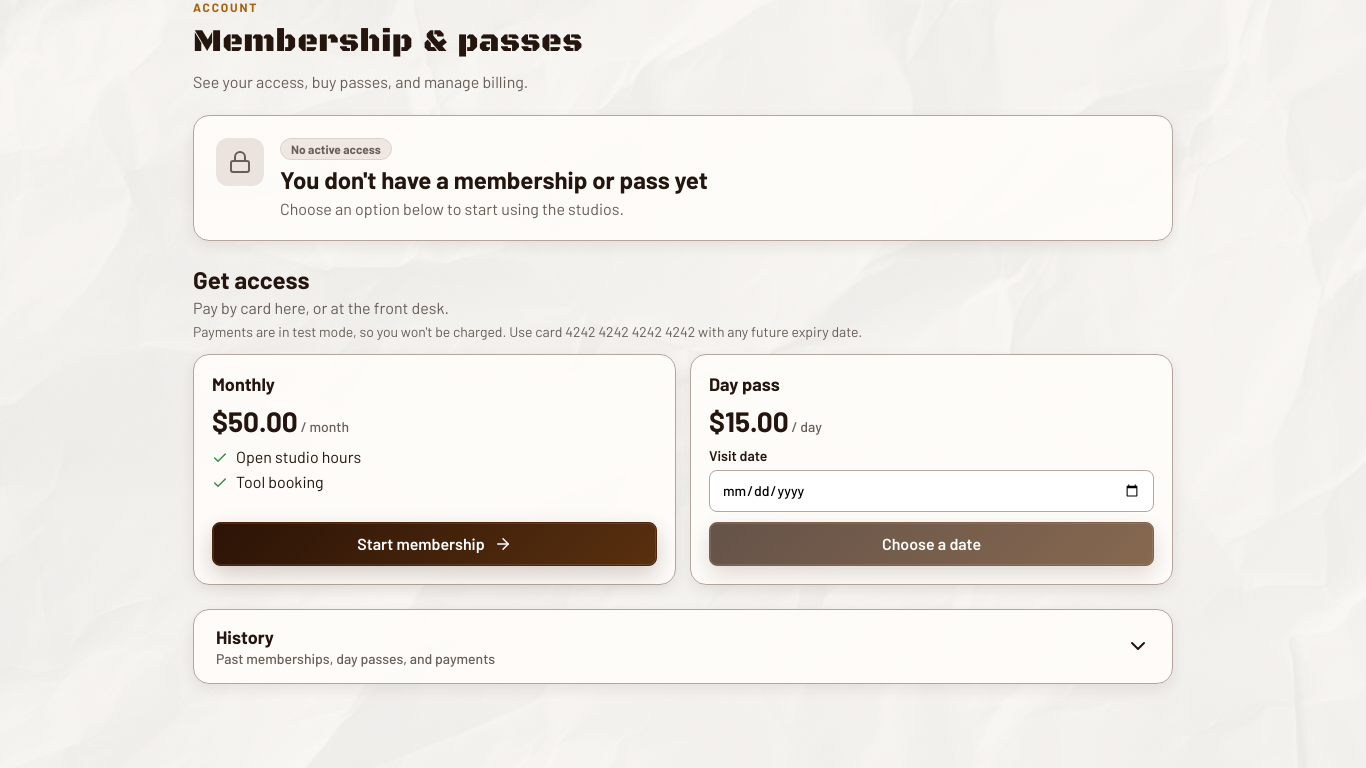
it: membership checkout needs consent in the confirm step and sends only the server quote
Click the button "Start membership" at x=434, y=544, box x1=212 y1=522 x2=657 y2=566
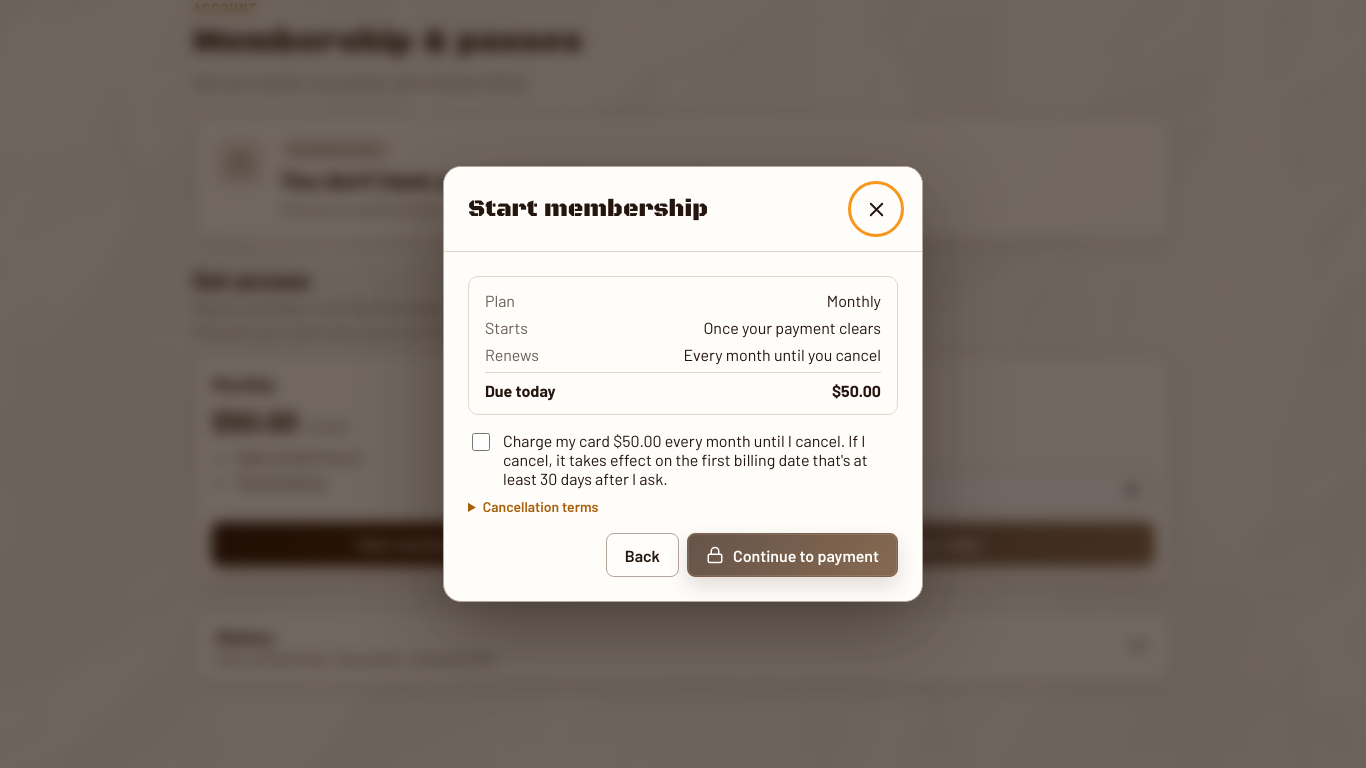
expect the button "Continue to payment" is disabled: met, box x1=687 y1=533 x2=898 y2=577
Click the checkbox at x=481, y=442, box x1=472 y1=433 x2=490 y2=451
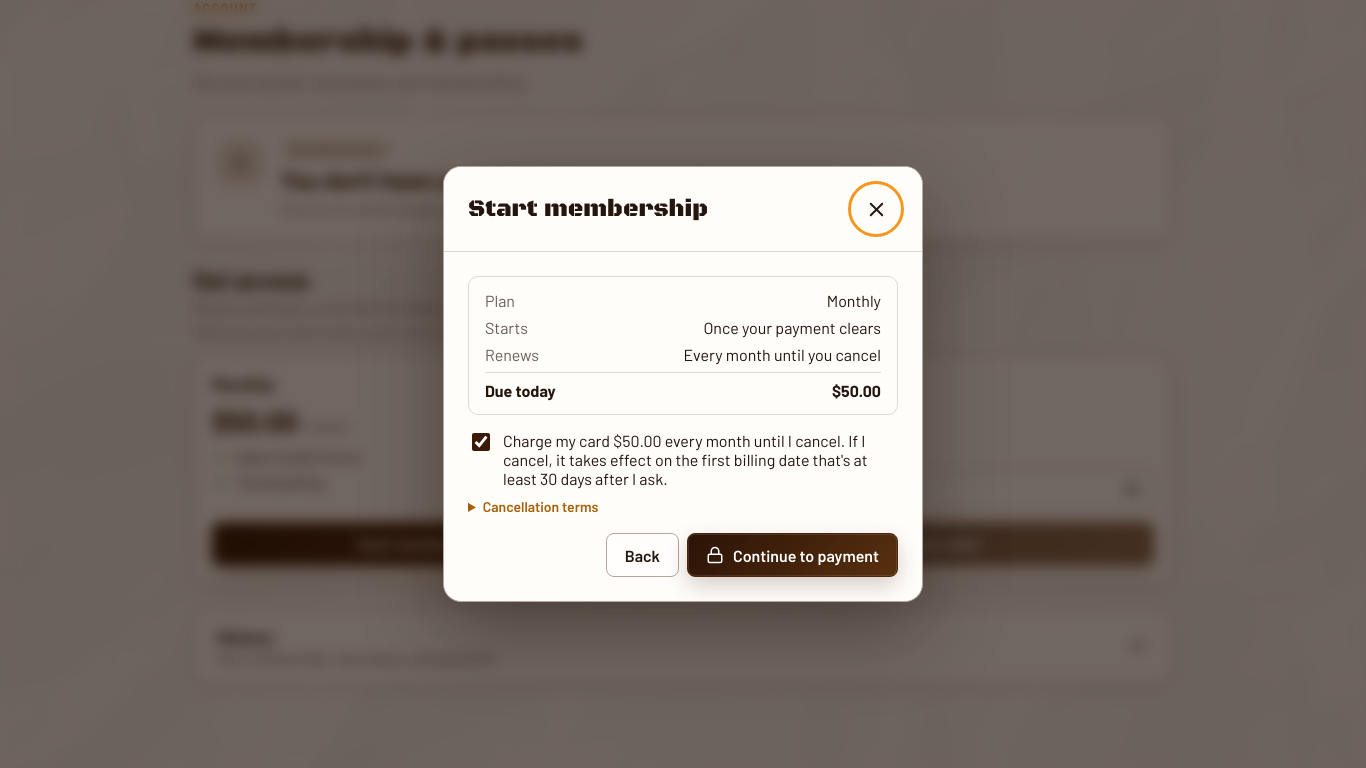
expect the button "Continue to payment" is enabled: met
Click the button "Continue to payment" at x=792, y=555, box x1=687 y1=533 x2=898 y2=577
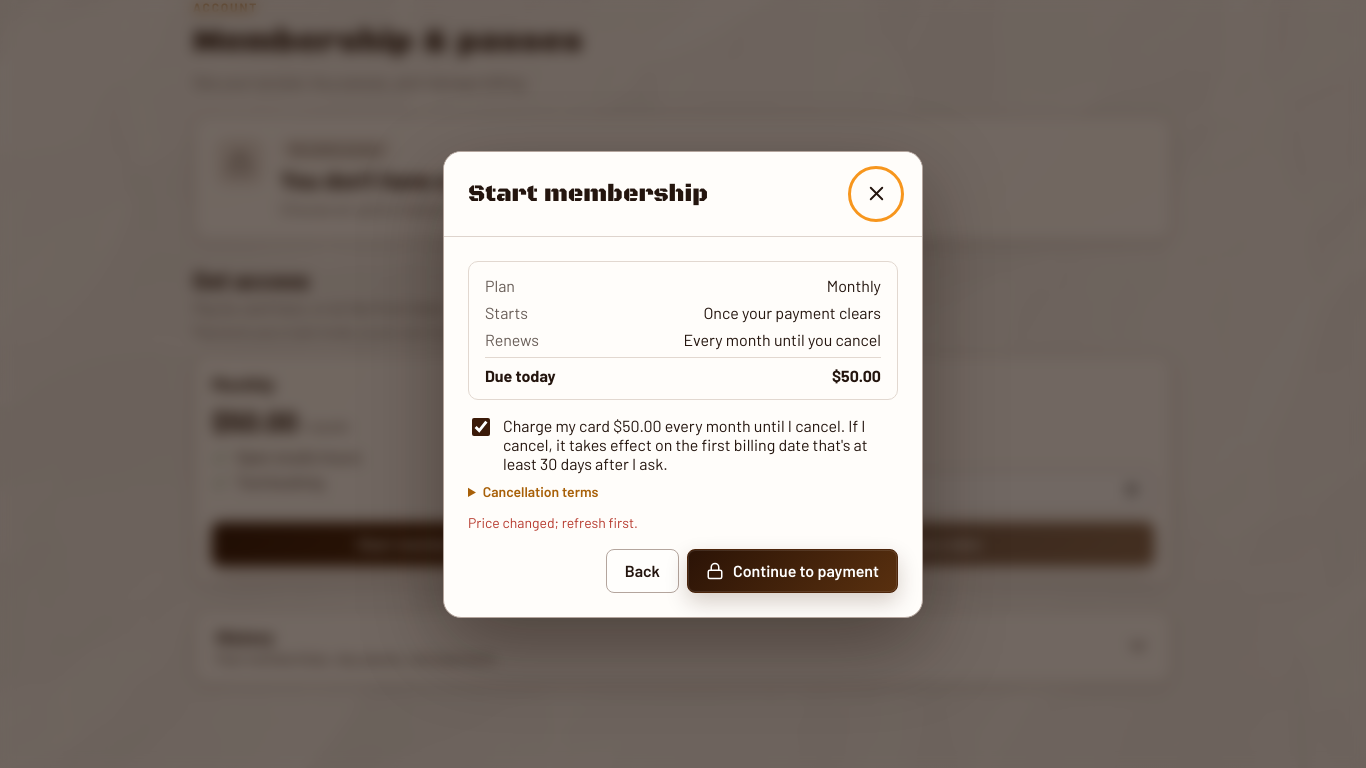
expect the message shows "Price changed": met, box x1=468 y1=514 x2=638 y2=530
